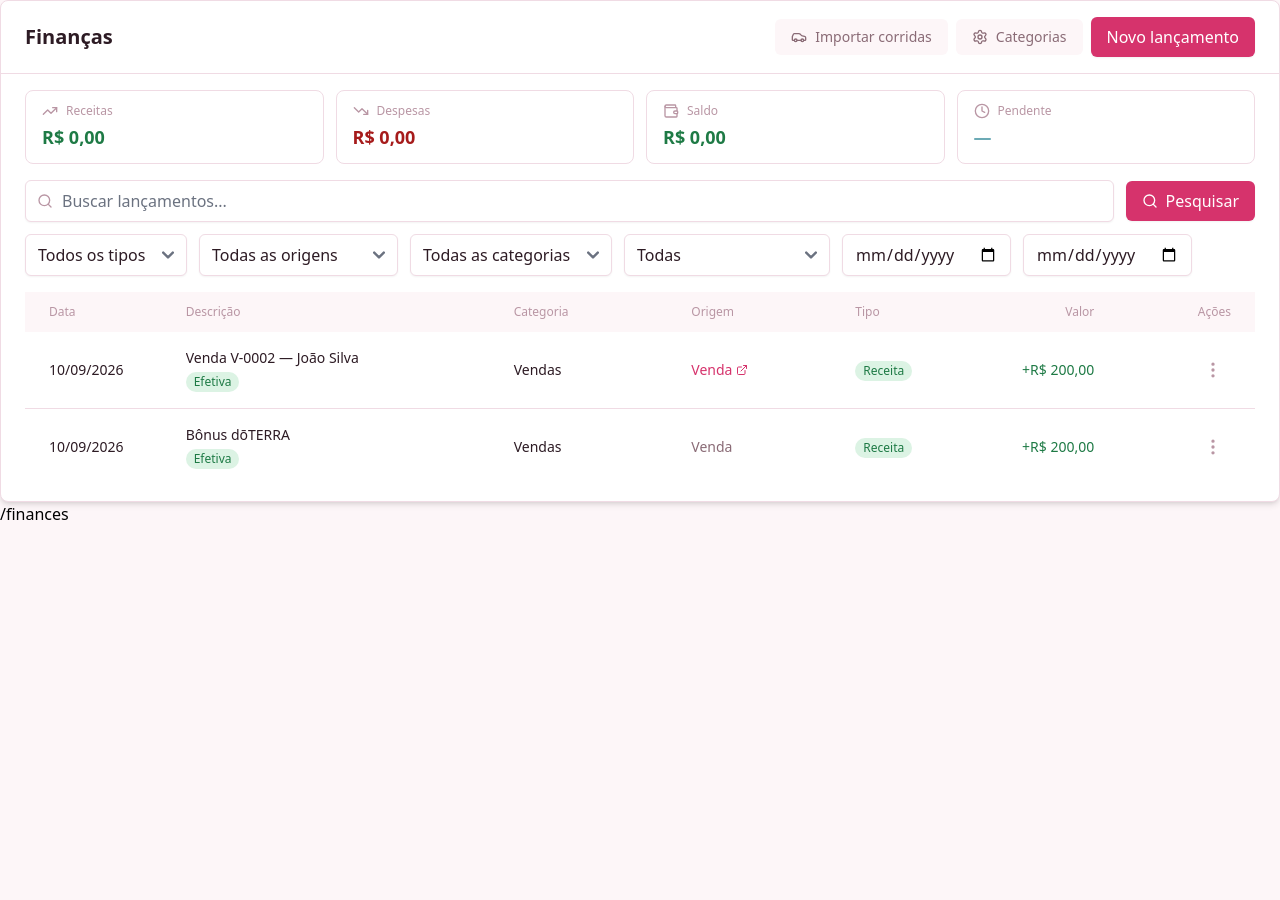
Test: Finances deep links › details from the table action menu › clears the param and closes the modal opened by the action menu
Expected: the text "Venda V-0002 — João Silva" is shown, [186,348,359,367]
Click the button named "Ações do lançamento" in the row of "Bônus dōTERRA".
click(1213, 447)  # box [1195,429,1231,465]
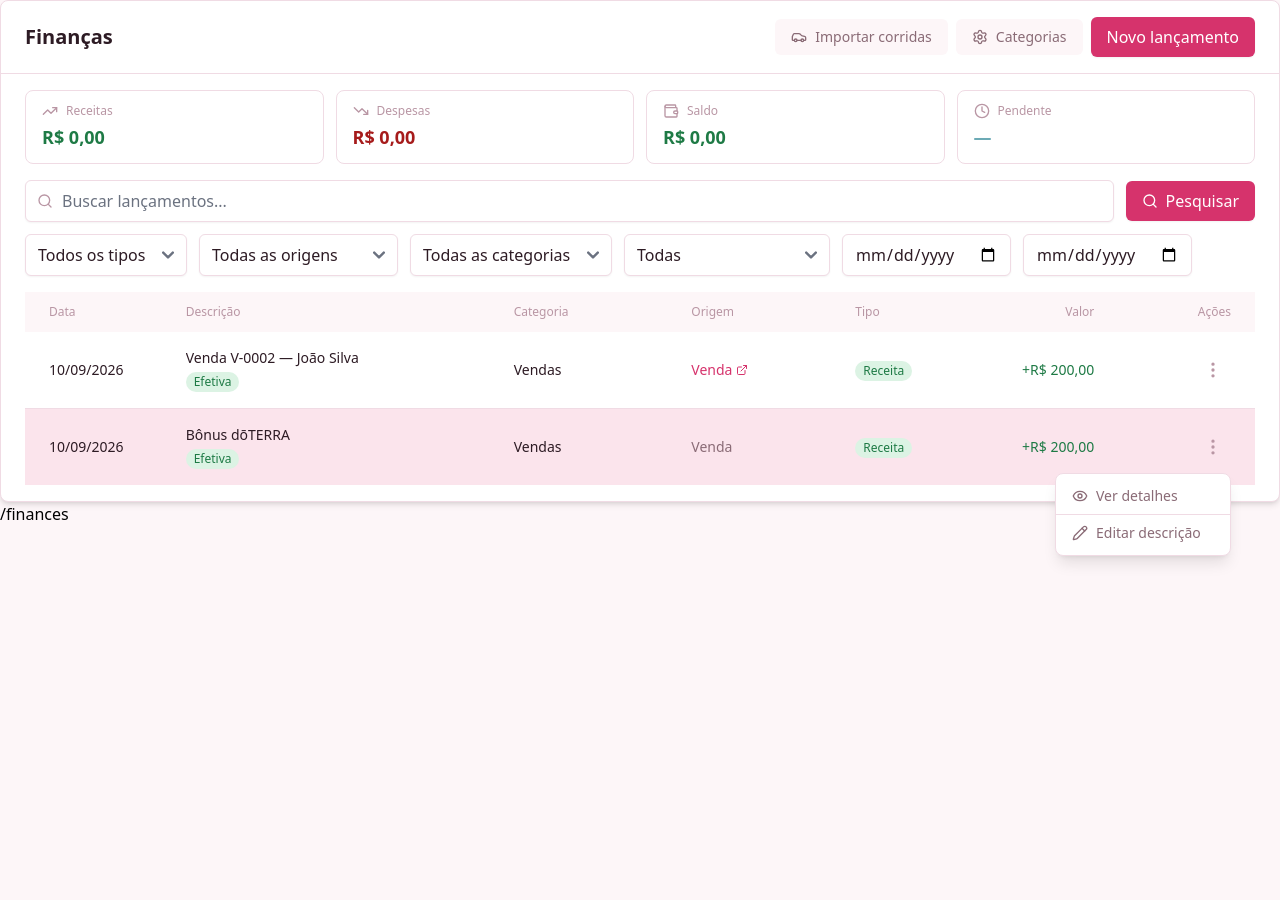
Click the menu item "Ver detalhes".
click(1143, 496)  # box [1056,478,1230,514]
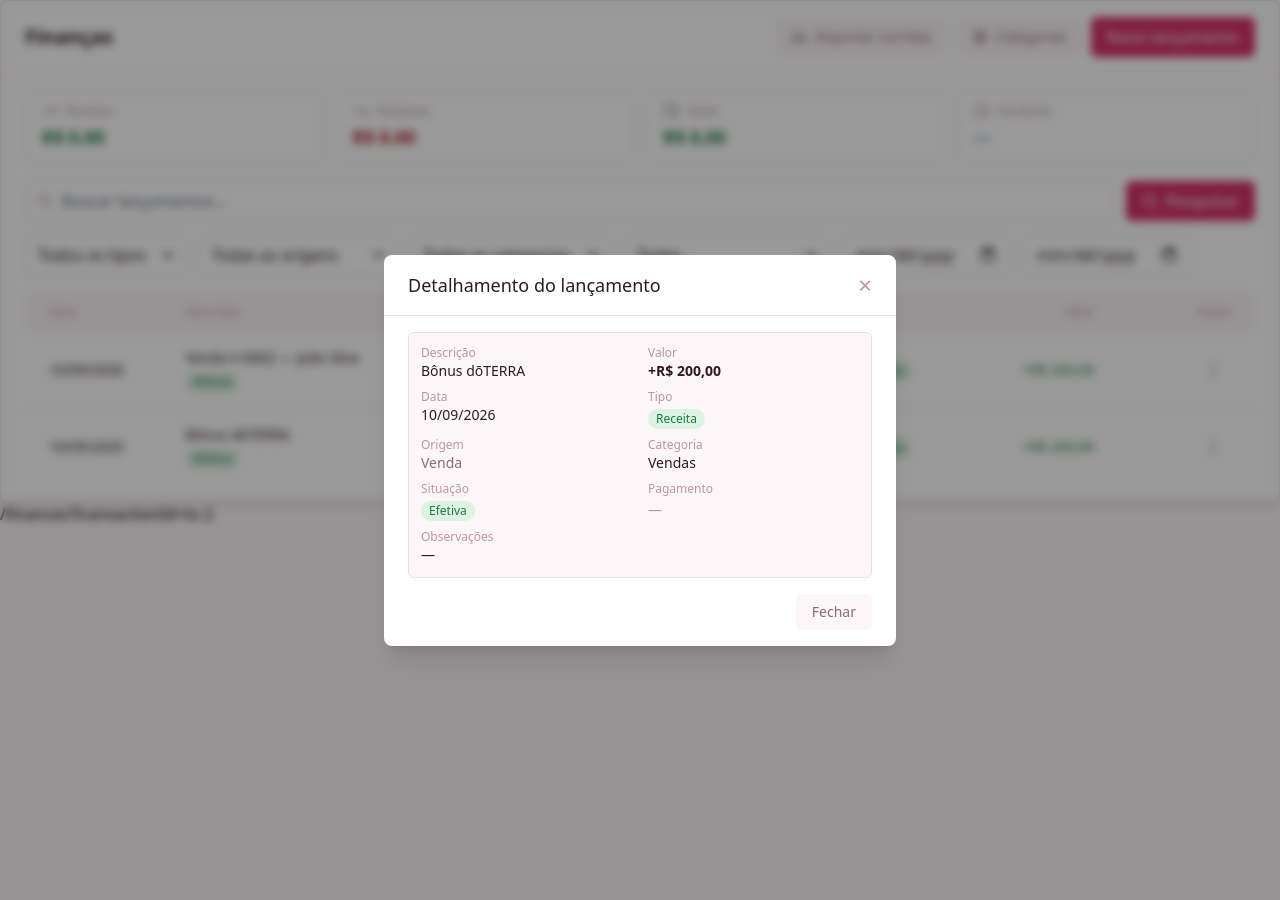
Expected: the element with test id "transaction-details-modal" is shown
Click the button named "Fechar detalhamento".
click(865, 284)  # box [858,272,872,296]
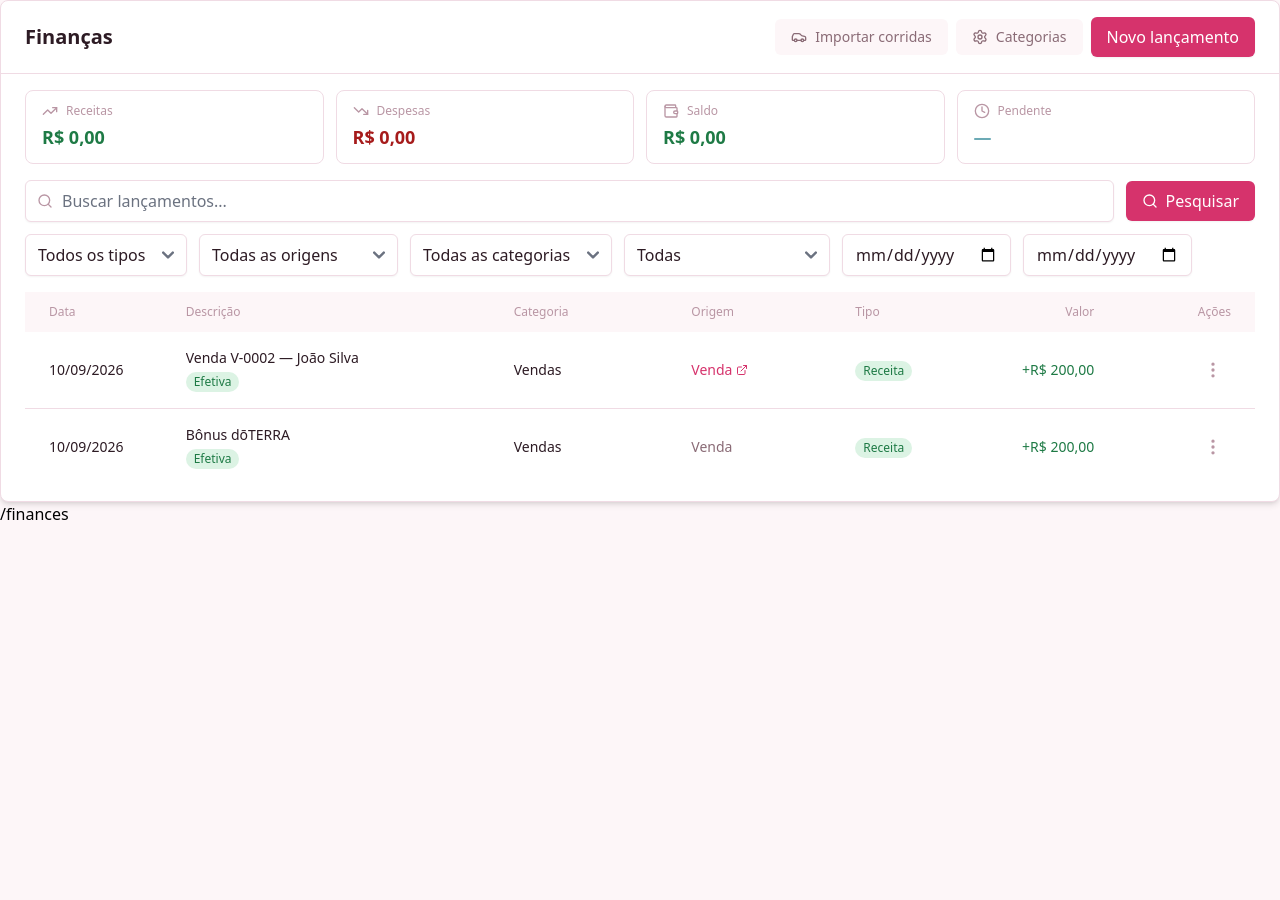
Expected: the element with test id "transaction-details-modal" is gone
Expected: the text with test id "route-probe" reads "/finances", [0,503,69,525]
